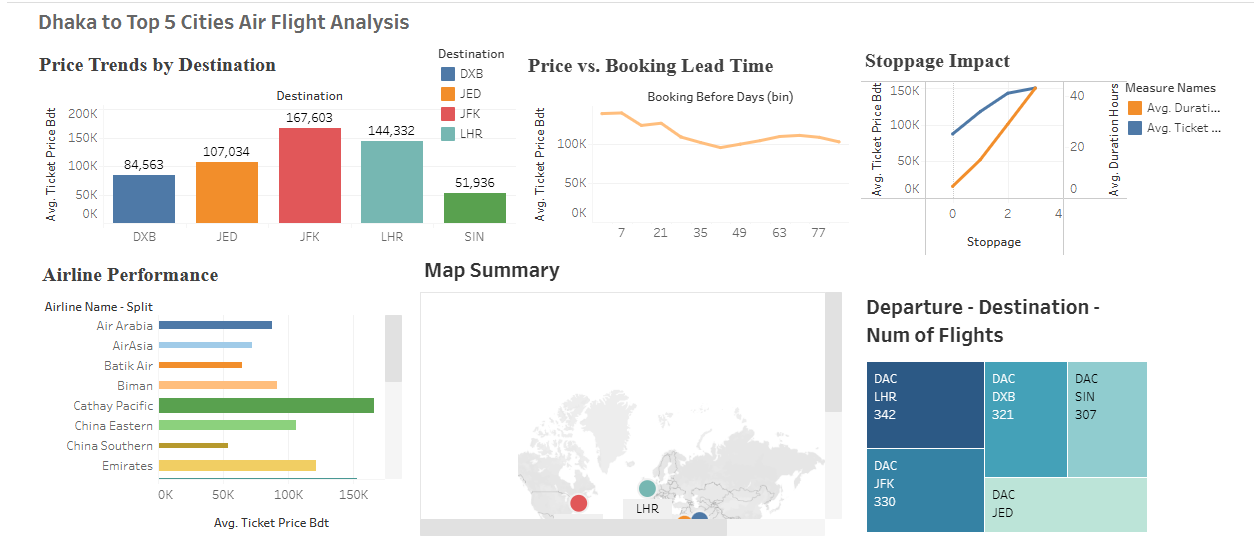

What the dashboard file says about the page in this screenshot:
{"tool":"tableau","page":{"name":"Dashboard 1","canvas":[1200,600],"ordinal":0},"visuals":[{"type":"worksheet","title":"Sheet 5","mark":"Line","rows":["ticket_price_bdt","Calculation_687643409714503680"],"cols":["stoppage"],"box":[827,39,267,214]},{"type":"legend","title":"Sheet 1","param":"[federated.1smic7s15zcnvx16sj1mv1xw3r5m].[none:destination:nk]","box":[404,42,74,102]},{"type":"worksheet","title":"Sheet 1","mark":"Automatic","rows":["ticket_price_bdt"],"cols":["destination"],"box":[1,43,481,199]},{"type":"worksheet","title":"Sheet 2","mark":"Line","rows":["ticket_price_bdt"],"cols":["Booking Before Days (bin)"],"box":[490,44,325,197]},{"type":"legend","title":"Sheet 5","param":"[federated.1smic7s15zcnvx16sj1mv1xw3r5m].[:Measure Names]","box":[1091,76,100,78]},{"type":"worksheet","title":"Sheet 8","mark":"Automatic","box":[386,246,422,287]},{"type":"worksheet","title":"Sheet 4","mark":"Bar","rows":["airline_name - Split 3"],"cols":["ticket_price_bdt"],"box":[4,253,365,280]},{"type":"worksheet","title":"Sheet 7","mark":"Automatic","box":[828,283,373,251]}]}

Visuals, with their boxes on the page's 1200x600 design canvas (x1, y1, x2, y2). These are canvas units, not pixel positions in the 1254x543 screenshot, which may show the page scaled, cropped or inside an application window:
"Sheet 5" worksheet (Line marks): [827, 39, 1094, 253]
"Sheet 1" legend: [404, 42, 478, 144]
"Sheet 1" worksheet: [1, 43, 482, 242]
"Sheet 2" worksheet (Line marks): [490, 44, 815, 241]
"Sheet 5" legend: [1091, 76, 1191, 154]
"Sheet 8" worksheet: [386, 246, 808, 533]
"Sheet 4" worksheet (Bar marks): [4, 253, 369, 533]
"Sheet 7" worksheet: [828, 283, 1201, 534]
